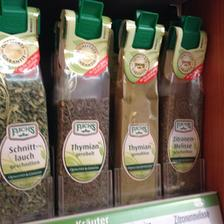Gewuerze: (0, 3, 54, 222), (56, 8, 110, 214), (115, 17, 163, 205), (161, 25, 207, 195)
